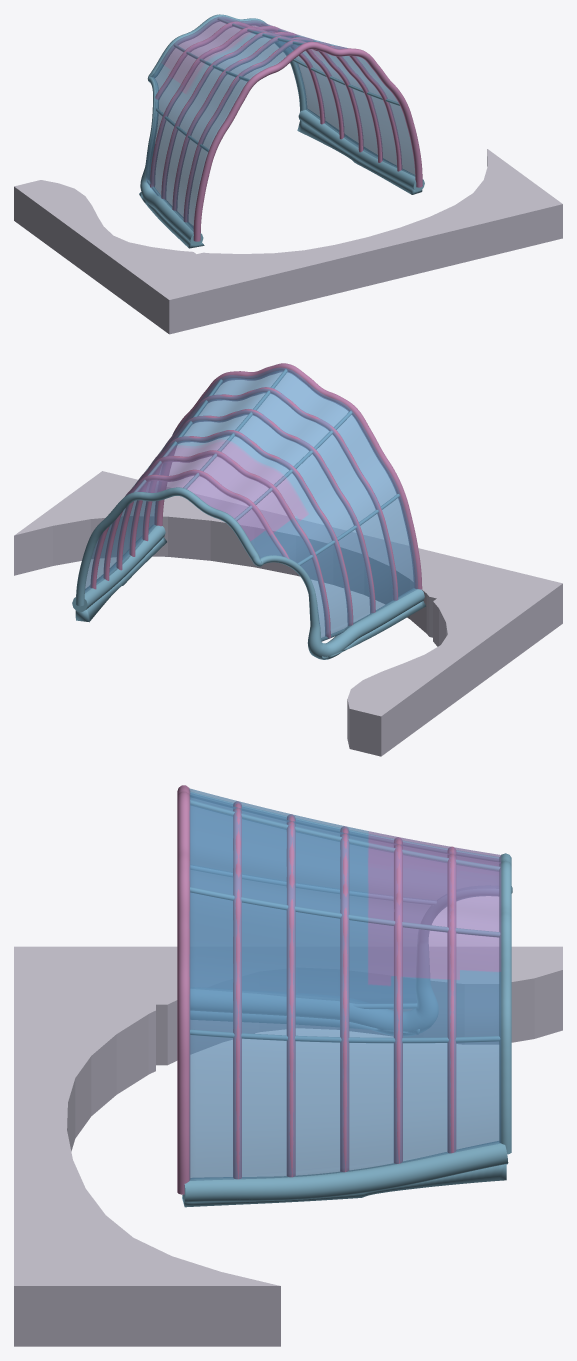
File: cove-corner-with-apron-v3.glb
3 renders of one model, top to bottom at view 1: azimuth 30°, elevation 25°; view 2: azimuth 150°, elevation 25°; view 3: azimuth 270°, elevation 25°, orthographic. The views are drawn at different scales.
Visible parts, largest first — view 1: P04 candidate / shared apron exact world floor and bank, Harbor / continuous translucent shell hall, Harbor / curved shell structural rib, Harbor / continuous entrance runner jamb rear arch, Harbor / curved shell structural rib.001, Harbor / curved shell structural rib.002, Harbor / shell grown footing.001, Harbor / curved shell structural rib.003, Harbor / curved shell structural rib.004, Harbor / corner structural rib joined to rim, Harbor / continuous grounded runner socket right; view 2: Harbor / continuous translucent shell hall, P04 candidate / shared apron exact world floor and bank, Harbor / continuous entrance runner jamb rear arch, Harbor / curved shell structural rib, Harbor / curved shell structural rib.001, Harbor / curved shell structural rib.002, Harbor / curved shell structural rib.003, Harbor / curved shell structural rib.004, Harbor / shell grown footing.001, Harbor / corner structural rib joined to rim, Harbor / continuous grounded runner socket right, Harbor / continuous grounded runner socket left (+2 smaller); view 3: Harbor / continuous translucent shell hall, P04 candidate / shared apron exact world floor and bank, Harbor / continuous entrance runner jamb rear arch, Harbor / shell grown footing.001, Harbor / curved shell structural rib, Harbor / curved shell structural rib.002, Harbor / curved shell structural rib.003, Harbor / curved shell structural rib.001, Harbor / corner structural rib joined to rim, Harbor / curved shell structural rib.004, Harbor / continuous grounded runner socket right, Harbor / shell longitudinal seam.001 (+5 smaller).
Boxes of the visible parts, <box> form: P04 candidate / shared apron exact world floor and bank: <box>14,149,562,334</box>; Harbor / continuous translucent shell hall: <box>146,16,415,231</box>; Harbor / curved shell structural rib: <box>193,41,422,241</box>; Harbor / continuous entrance runner jamb rear arch: <box>140,14,306,245</box>; Harbor / curved shell structural rib.001: <box>183,40,402,222</box>; Harbor / curved shell structural rib.002: <box>172,36,382,210</box>; Harbor / shell grown footing.001: <box>298,109,424,191</box>; Harbor / curved shell structural rib.003: <box>161,32,363,199</box>; Harbor / curved shell structural rib.004: <box>150,27,344,187</box>; Harbor / corner structural rib joined to rim: <box>155,21,325,124</box>; Harbor / continuous grounded runner socket right: <box>297,120,422,194</box>; Harbor / continuous translucent shell hall: <box>85,367,418,641</box>; P04 candidate / shared apron exact world floor and bank: <box>14,471,562,756</box>; Harbor / continuous entrance runner jamb rear arch: <box>76,487,424,659</box>; Harbor / curved shell structural rib: <box>154,363,422,589</box>; Harbor / curved shell structural rib.001: <box>142,387,398,600</box>; Harbor / curved shell structural rib.002: <box>129,409,375,613</box>; Harbor / curved shell structural rib.003: <box>116,430,353,625</box>; Harbor / curved shell structural rib.004: <box>103,450,330,638</box>; Harbor / shell grown footing.001: <box>72,525,165,611</box>; Harbor / corner structural rib joined to rim: <box>90,469,289,589</box>; Harbor / continuous grounded runner socket right: <box>75,537,166,622</box>; Harbor / continuous grounded runner socket left: <box>321,601,425,659</box>; Harbor / continuous translucent shell hall: <box>189,788,501,1180</box>; P04 candidate / shared apron exact world floor and bank: <box>14,946,562,1346</box>; Harbor / continuous entrance runner jamb rear arch: <box>190,853,512,1154</box>; Harbor / shell grown footing.001: <box>182,1141,508,1202</box>; Harbor / curved shell structural rib: <box>177,785,190,1194</box>; Harbor / curved shell structural rib.002: <box>286,814,295,1177</box>; Harbor / curved shell structural rib.003: <box>340,826,349,1172</box>; Harbor / curved shell structural rib.001: <box>233,801,241,1179</box>; Harbor / corner structural rib joined to rim: <box>447,846,456,1153</box>; Harbor / curved shell structural rib.004: <box>393,837,402,1163</box>; Harbor / continuous grounded runner socket right: <box>182,1164,506,1207</box>; Harbor / shell longitudinal seam.001: <box>190,1029,500,1043</box>.
Bounding box in the file's own units: 8.29 × 4.25 × 5.67.
